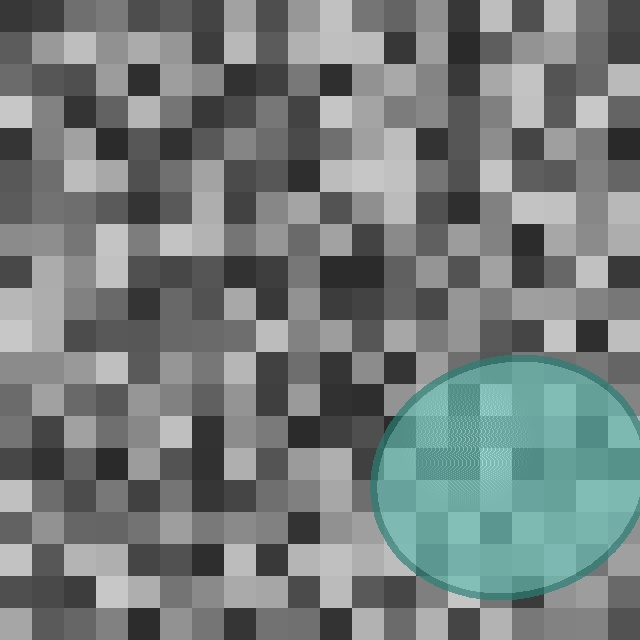lens: (373, 358, 640, 596)
